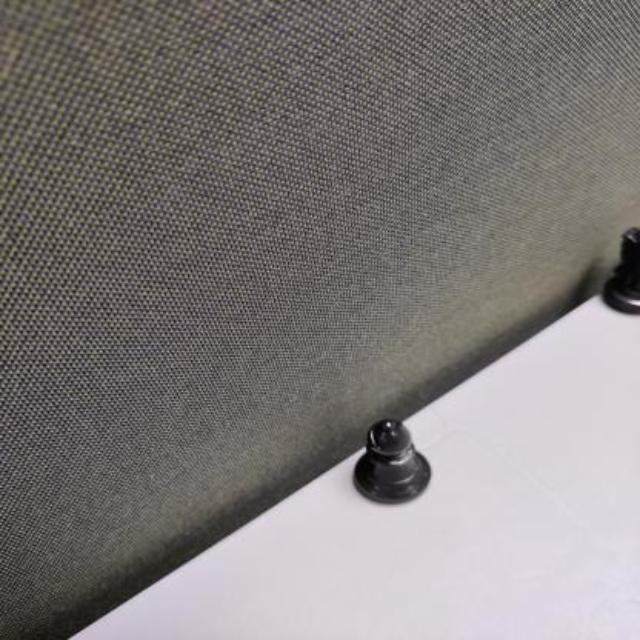black-bishop: (350, 416, 436, 511)
